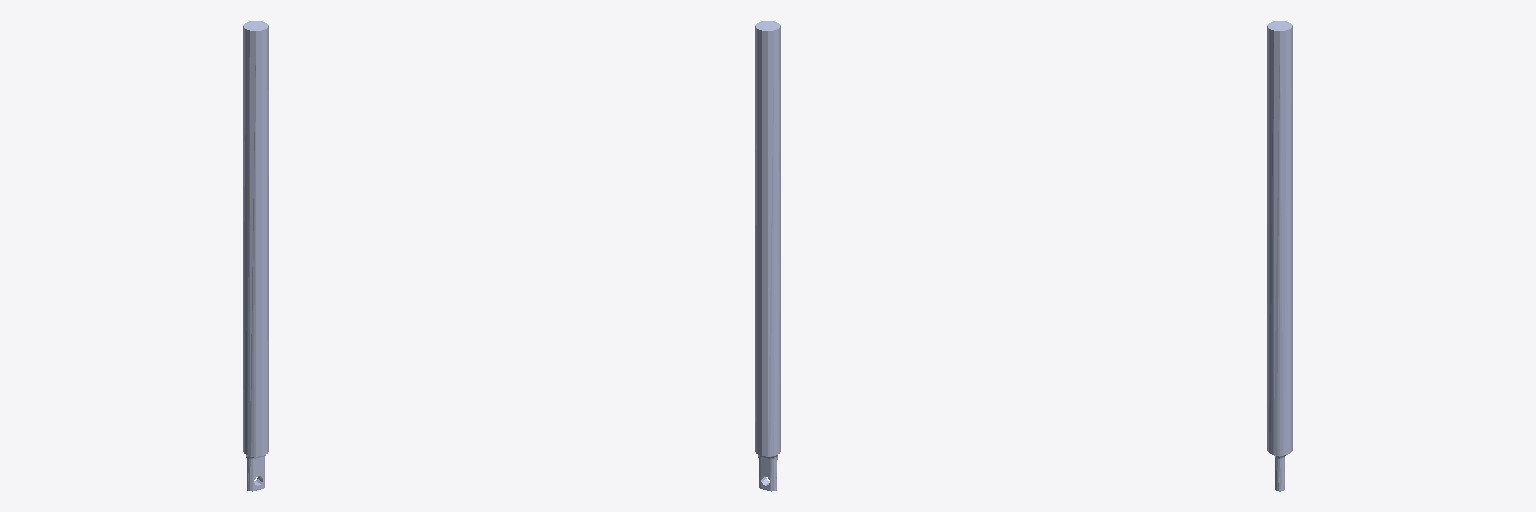
URDF robot description (pole):
<robot
  name="pole">
  <link
    name="pole">
    <inertial>
      <origin
        xyz="5.1965E-17 -6.97039984513016E-10 0.25293"
        rpy="0 0 0" />
      <mass
        value="0.23243" />
      <inertia
        ixx="0.00438754518582167"
        ixy="-1.25253237813376E-10"
        ixz="-2.23831229550661E-18"
        iyy="0.00438769663550614"
        iyz="-2.85547006919033E-11"
        izz="1.79012590972362E-05" />
    </inertial>
    <visual>
      <origin
        xyz="0 0 0"
        rpy="1.5707963267949 0 0" />
      <geometry>
        <mesh
          filename="package://pole/meshes/pole.STL" />
      </geometry>
      <material
        name="">
        <color
          rgba="0.79216 0.81961 0.93333 1" />
      </material>
    </visual>
    <collision>
      <origin
        xyz="0 0 0"
        rpy="1.5707963267949 0 0" />
      <geometry>
        <mesh
          filename="package://pole/meshes/pole.STL" />
      </geometry>
    </collision>
  </link>
</robot>

--- What the picture shows (computed from the rendered views, not written in the file) ---
3 views of the same robot in one strip: view 1: azimuth 30°, elevation 25°; view 2: azimuth 150°, elevation 25°; view 3: azimuth 270°, elevation 25° (orthographic).
Model pole with 1 links and 0 joints (none), rooted at pole, posed every joint at zero.
Links seen in each view (by area): view 1: pole; view 2: pole; view 3: pole.
Link boxes in pixels (x1=…): pole: x1=243, y1=21, x2=268, y2=491; pole: x1=755, y1=21, x2=780, y2=491; pole: x1=1267, y1=21, x2=1292, y2=491.
Bounding box of the posed robot: 0.025 × 0.025 × 0.5 m (x, y, z).
Meshes: 1 distinct files referenced, 1 mesh visuals loaded (1 binary STL).